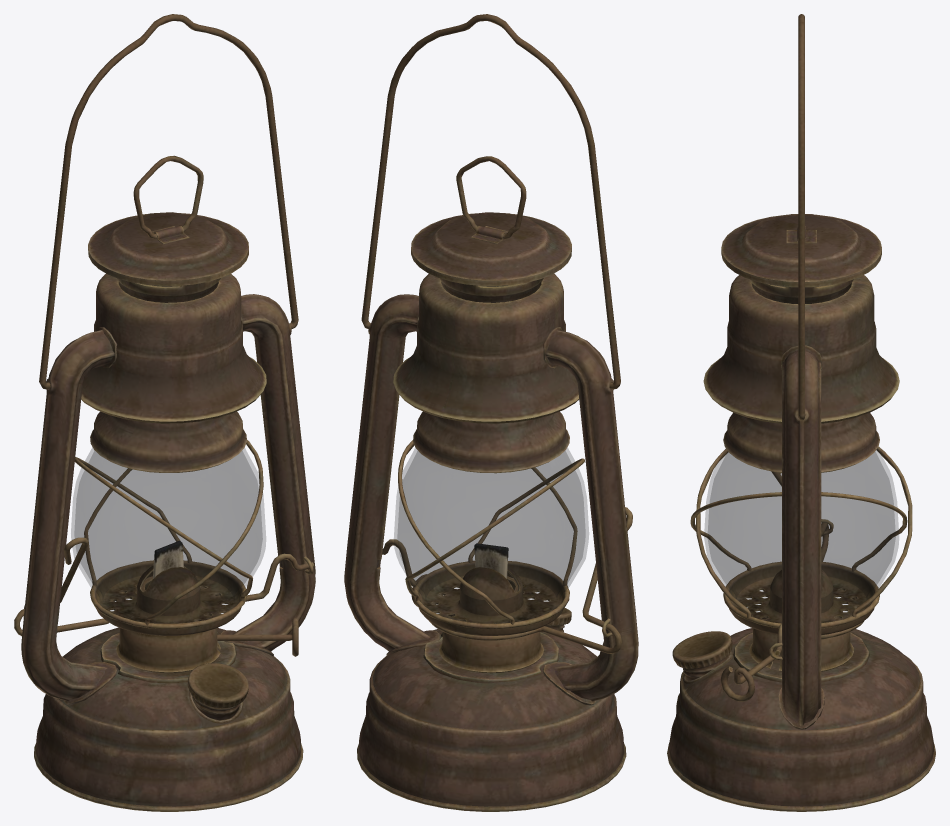
The model's file is lantern_01.glb.
3 renders of one model, left to right at view 1: azimuth 30°, elevation 25°; view 2: azimuth 150°, elevation 25°; view 3: azimuth 270°, elevation 25°, orthographic.
Visible parts, largest first — view 1: Lantern_01_mesh, Lantern_01_glass_mesh; view 2: Lantern_01_mesh, Lantern_01_glass_mesh; view 3: Lantern_01_mesh, Lantern_01_glass_mesh.
Part boxes in pixels (left/top/right/bottom): Lantern_01_mesh: left=14, top=14, right=315, bottom=811; Lantern_01_glass_mesh: left=71, top=448, right=265, bottom=623; Lantern_01_mesh: left=344, top=14, right=638, bottom=811; Lantern_01_glass_mesh: left=394, top=447, right=588, bottom=623; Lantern_01_mesh: left=667, top=14, right=935, bottom=811; Lantern_01_glass_mesh: left=704, top=448, right=898, bottom=622.
Bounding box in the file's own units: 0.1221 × 0.2942 × 0.0971.
Materials: 2 (2 with a texture image).
